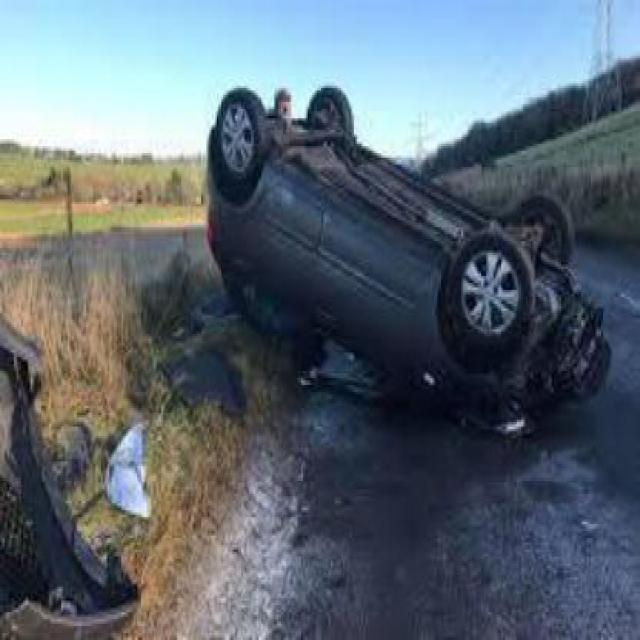accident: (198, 63, 610, 436)
